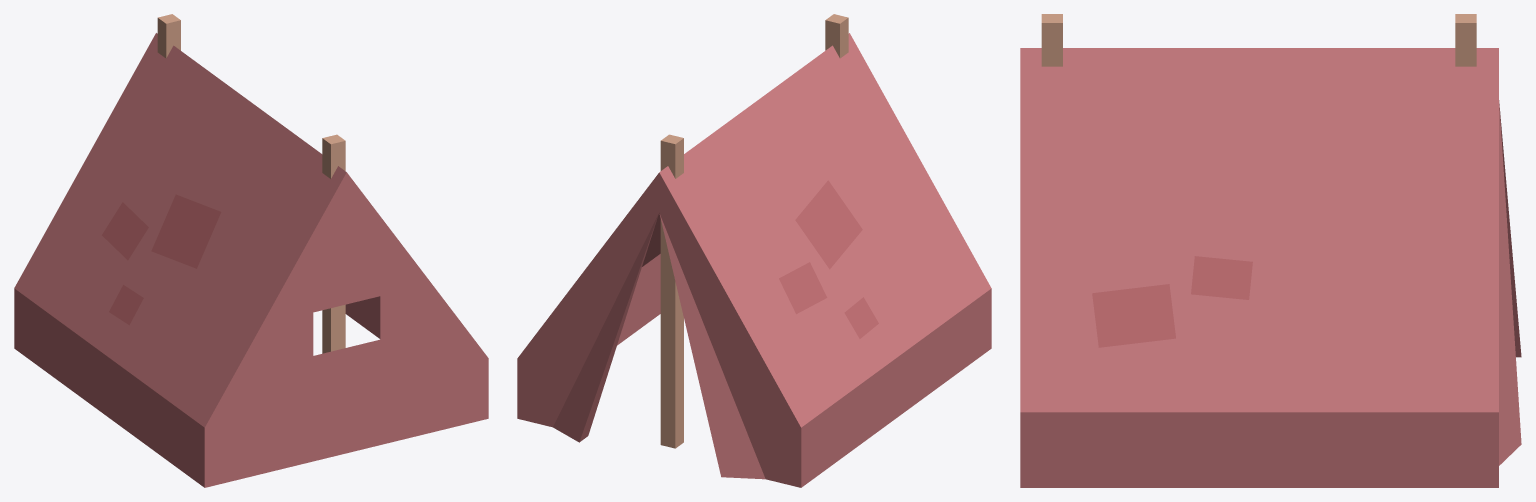
The model's file is tent_smallOpen.glb.
3 views of the same model, side by side, from view 1: azimuth 30°, elevation 25°; view 2: azimuth 150°, elevation 25°; view 3: azimuth 270°, elevation 25° (orthographic). The views are drawn at different scales.
Parts seen in each view (by area): view 1: tent_smallOpen; view 2: tent_smallOpen; view 3: tent_smallOpen.
Boxes of the visible parts, <box> form: tent_smallOpen: <box>14,14,488,487</box>; tent_smallOpen: <box>517,14,991,487</box>; tent_smallOpen: <box>1020,14,1521,487</box>.
Size of the model in its own units: 0.5476 by 0.5611 by 0.6664.
